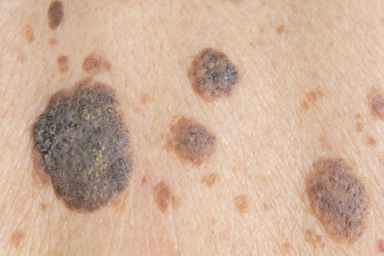seborrheic keratosis: (20, 39, 375, 248)
